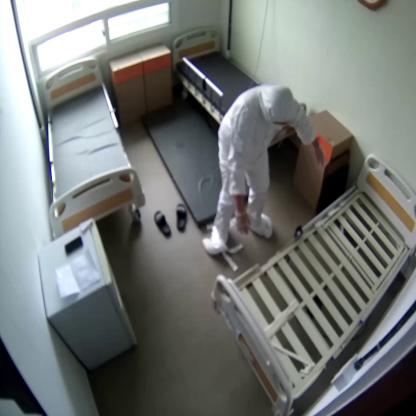Bed: (173, 26, 262, 124)
Person: (209, 85, 322, 255)
